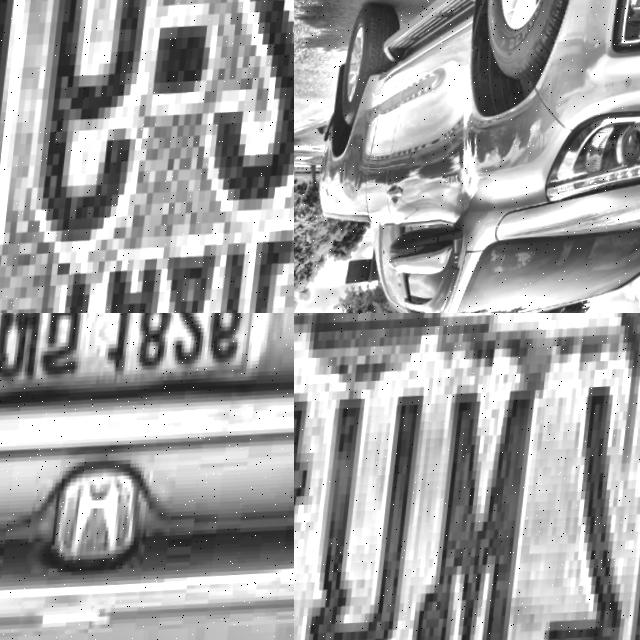license-plate: (294, 313, 640, 640), (0, 0, 294, 313), (0, 313, 294, 434)
